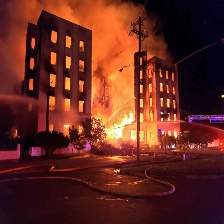fire: (99, 109, 145, 144)
smoke: (52, 1, 140, 102)
